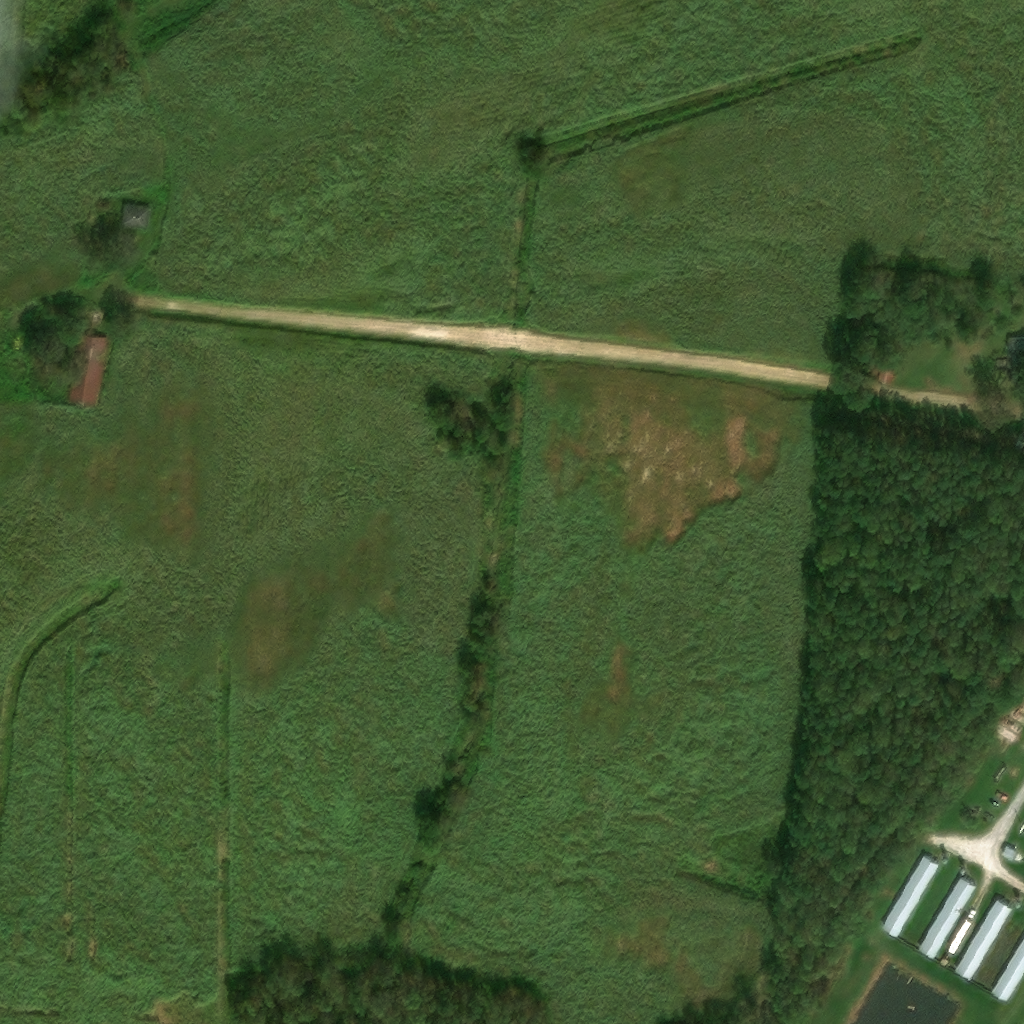no_damage: (882, 854, 941, 934), (918, 876, 977, 955), (955, 898, 1014, 977), (67, 333, 106, 405), (990, 937, 1022, 1000), (119, 202, 150, 227), (1001, 845, 1019, 861), (995, 767, 1008, 782)
